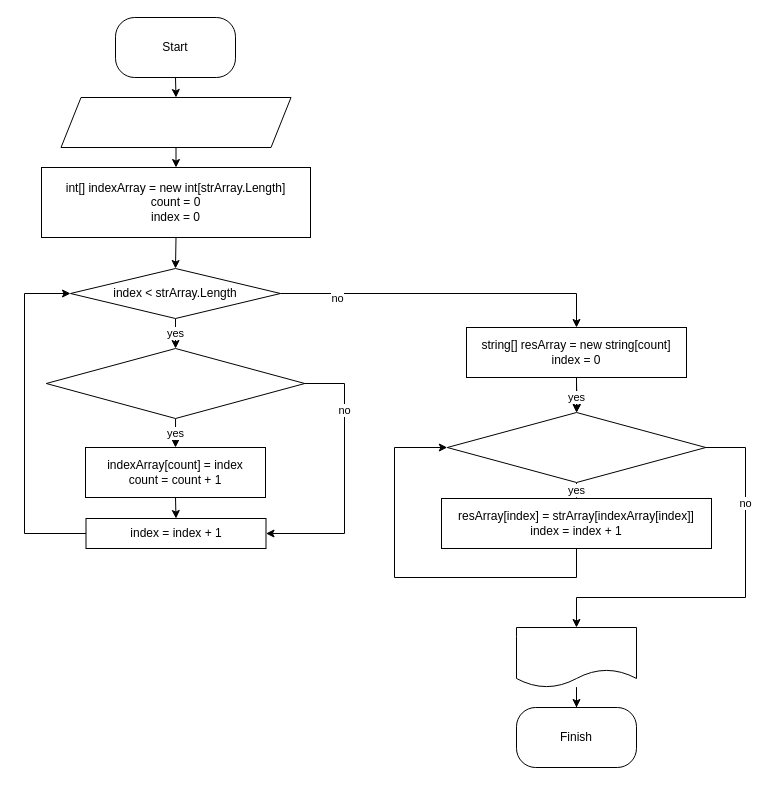
This 771x785 diagram has some shape labels left out. The centre of each missing label's shape, as x and y in pixels:
index < count: (576,447)
resArray: (576,657)
strArray[index].Length <= strMaxLength: (175,383)
string[] strArray strMaxLength: (175,122)
